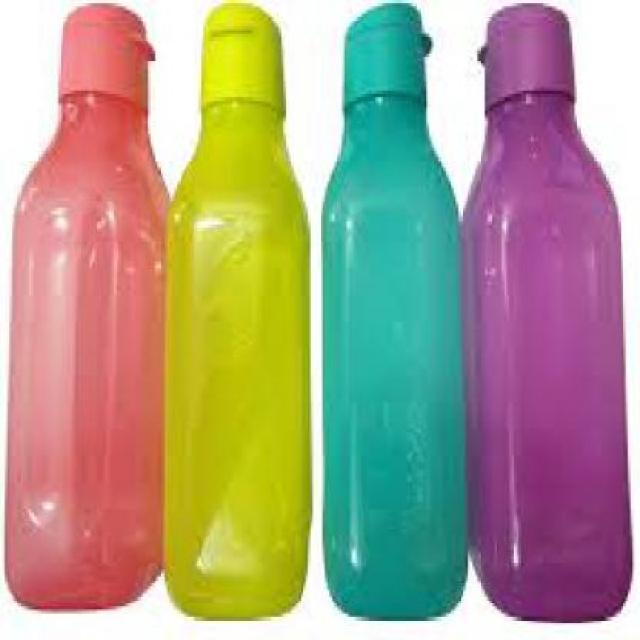Drinking: (468, 0, 638, 623), (0, 4, 165, 610), (169, 6, 320, 617)
